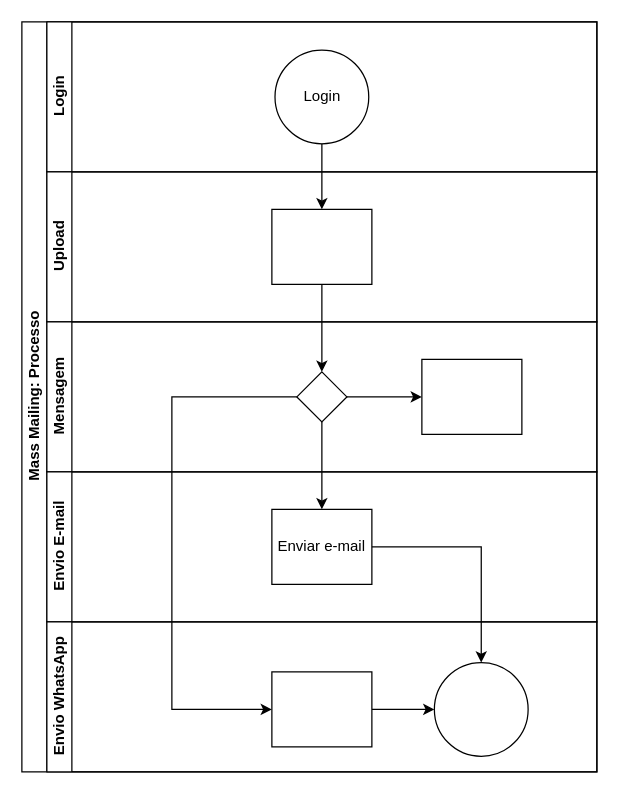
The diagram is 619 pixels wide and 794 high, and some of its shapes have lost their labels. Here are the shapes that lost their labels. From the top down, the centre of each, then its label:
At pixel 321 246: "Upload dos contatos".
At pixel 471 396: "Criar mensagem".
At pixel 321 709: "Envia WhatsApp".
At pixel 480 708: "Mensagens Enviadas".
